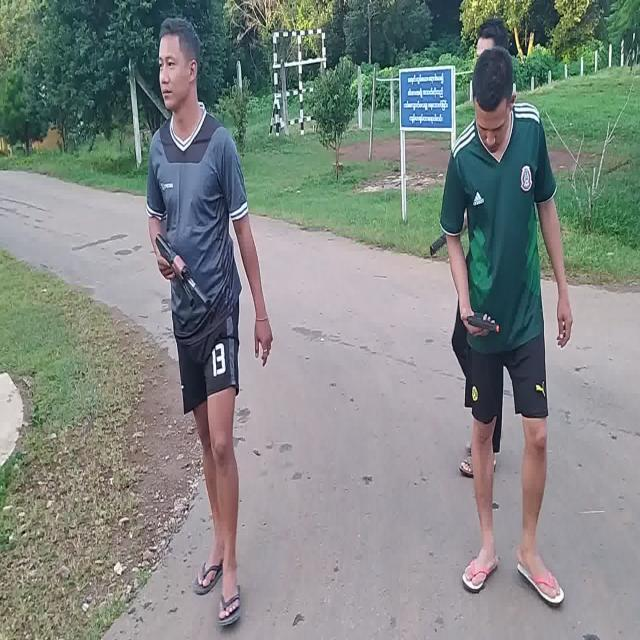gun: (156, 234, 211, 310), (467, 312, 499, 332)
